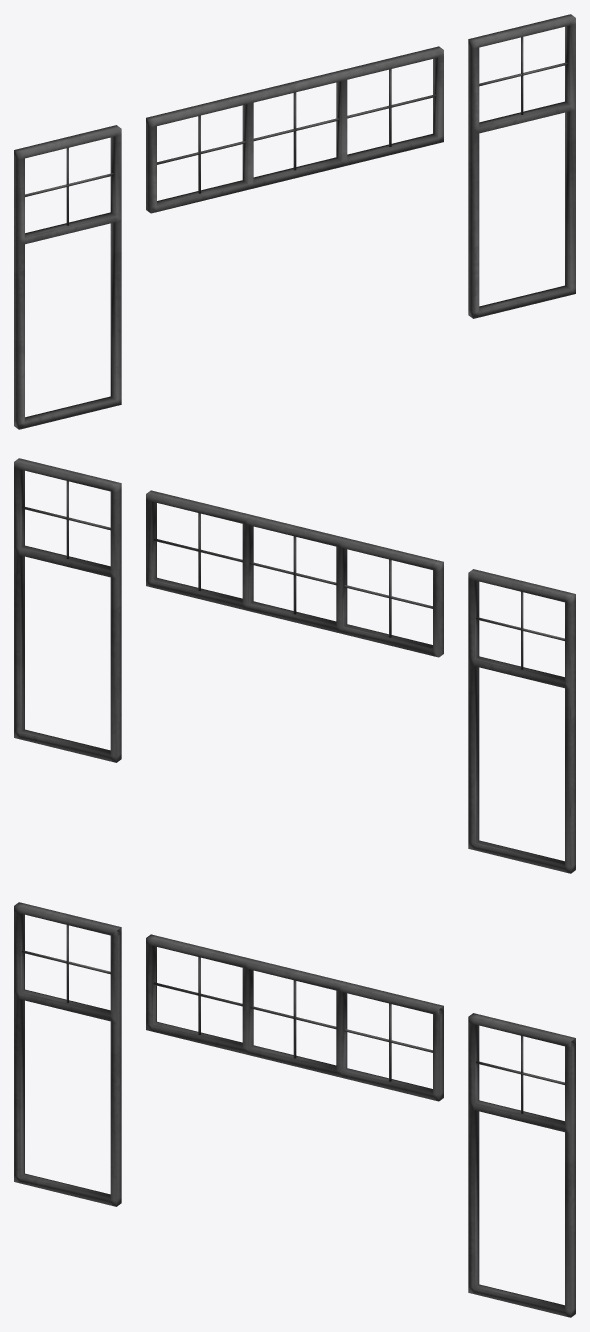
Rendered from Window_4x3_B.glb.
3 views of the same model, one above another, from view 1: azimuth 30°, elevation 25°; view 2: azimuth 150°, elevation 25°; view 3: azimuth 330°, elevation 25° (orthographic).
Parts seen in each view (by area): view 1: Window_4x3_B.001; view 2: Window_4x3_B.001; view 3: Window_4x3_B.001.
Part boxes in pixels (<box>): Window_4x3_B.001: <box>14,14,575,429</box>; Window_4x3_B.001: <box>14,458,575,873</box>; Window_4x3_B.001: <box>14,902,575,1317</box>.
Bounding box in the file's own units: 3.8 × 1.8 × 0.06.
2 materials, 1 textured.
